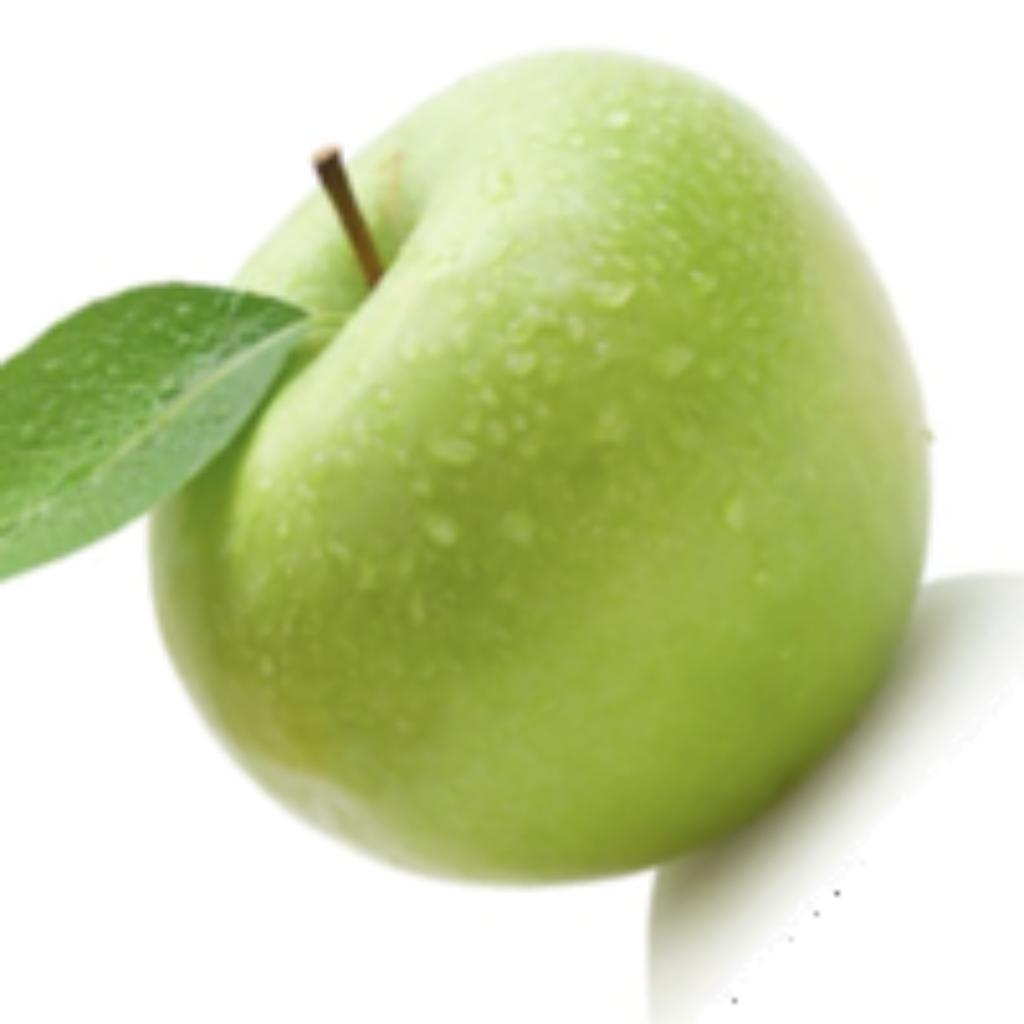apple: (0, 41, 1019, 1007)
